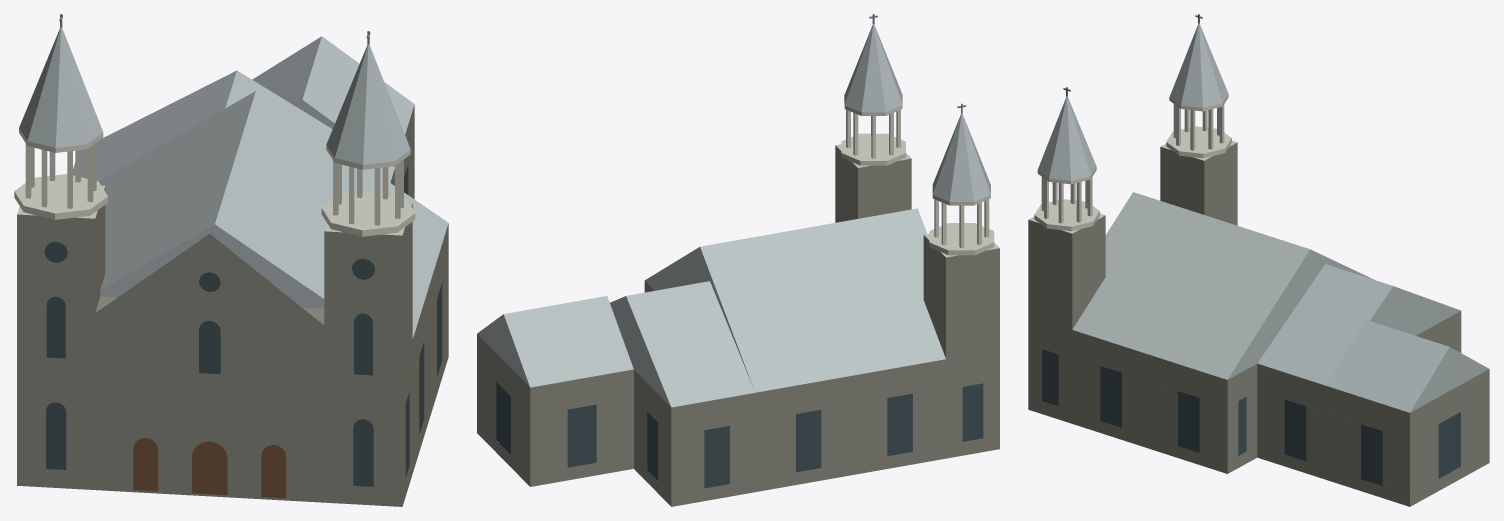
Rendered from eglise-purification-repentigny-far.glb.
The picture shows the model from 3 angles, left to right: view 1: azimuth 30°, elevation 25°; view 2: azimuth 150°, elevation 25°; view 3: azimuth 270°, elevation 25°; orthographic projection. The views are drawn at different scales.
Visible parts, largest first — view 1: eglise-purification-repentigny-0-stone, eglise-purification-repentigny-0-roof, eglise-purification-repentigny-0-glass, eglise-purification-repentigny-0-cornice, eglise-purification-repentigny-0-trim, eglise-purification-repentigny-0-door; view 2: eglise-purification-repentigny-0-roof, eglise-purification-repentigny-0-stone, eglise-purification-repentigny-0-glass, eglise-purification-repentigny-0-cornice, eglise-purification-repentigny-0-trim; view 3: eglise-purification-repentigny-0-roof, eglise-purification-repentigny-0-stone, eglise-purification-repentigny-0-glass, eglise-purification-repentigny-0-cornice, eglise-purification-repentigny-0-trim.
Part boxes in pixels (x1,y1,x2,y2): eglise-purification-repentigny-0-stone: (17, 105, 448, 506); eglise-purification-repentigny-0-roof: (19, 27, 448, 338); eglise-purification-repentigny-0-glass: (44, 164, 442, 486); eglise-purification-repentigny-0-cornice: (14, 128, 415, 236); eglise-purification-repentigny-0-trim: (17, 142, 412, 235); eglise-purification-repentigny-0-door: (133, 438, 286, 498); eglise-purification-repentigny-0-roof: (477, 24, 990, 407); eglise-purification-repentigny-0-stone: (477, 145, 999, 506); eglise-purification-repentigny-0-glass: (496, 382, 983, 488); eglise-purification-repentigny-0-cornice: (841, 101, 994, 255); eglise-purification-repentigny-0-trim: (836, 109, 999, 257); eglise-purification-repentigny-0-roof: (1037, 23, 1488, 412); eglise-purification-repentigny-0-stone: (1028, 142, 1489, 506); eglise-purification-repentigny-0-glass: (1042, 349, 1460, 485); eglise-purification-repentigny-0-cornice: (1034, 94, 1231, 231); eglise-purification-repentigny-0-trim: (1029, 104, 1237, 233).
Bounding box in the file's own units: 40.43 × 32 × 41.76.
